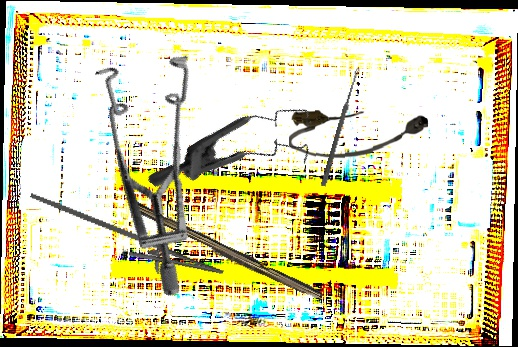Cannula: (288, 106, 429, 161)
Needle Holder: (19, 192, 231, 291)
Scalpel Handle: (126, 199, 326, 305)
Speculum: (21, 22, 276, 300), (145, 59, 333, 251)
Surgical Spoon: (320, 67, 361, 187)
